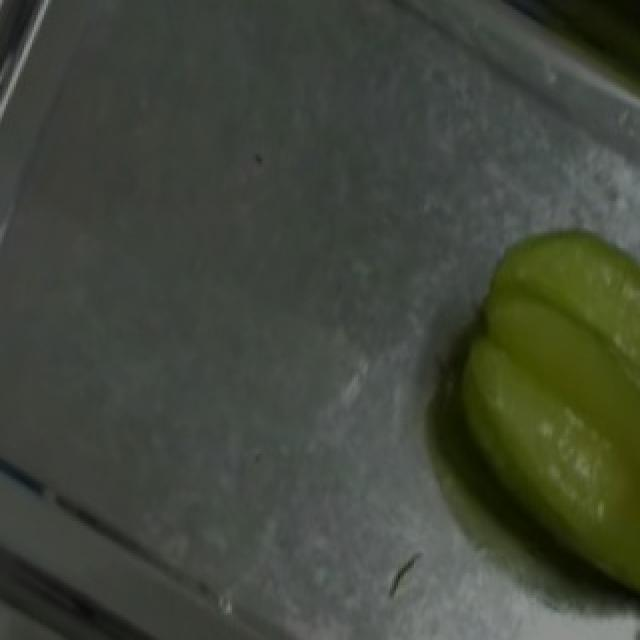fruit: (432, 198, 640, 576)
